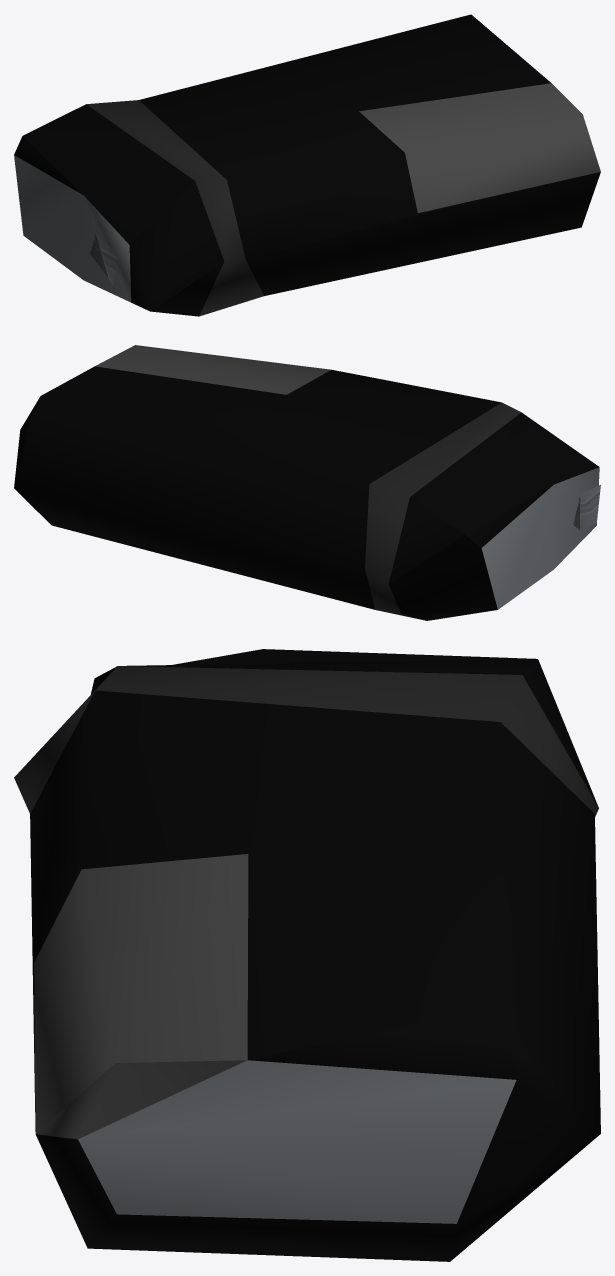
Rendered from env_ruin_container_01_lod2.fbx.
3 renders of one model, top to bottom at view 1: azimuth 30°, elevation 25°; view 2: azimuth 150°, elevation 25°; view 3: azimuth 270°, elevation 25°, orthographic. The views are drawn at different scales.
Parts seen in each view (by area): view 1: env_ruin_container_01_lod2; view 2: env_ruin_container_01_lod2; view 3: env_ruin_container_01_lod2.
Part boxes in pixels (x1,y1,x2,y2): env_ruin_container_01_lod2: (14, 14, 600, 316); env_ruin_container_01_lod2: (14, 345, 600, 620); env_ruin_container_01_lod2: (14, 649, 600, 1261).
Bounding box in the file's own units: 105 × 29.84 × 61.48.
